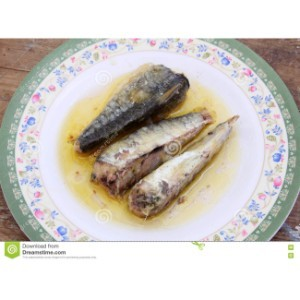sardine_brain food: (70, 63, 247, 210)
